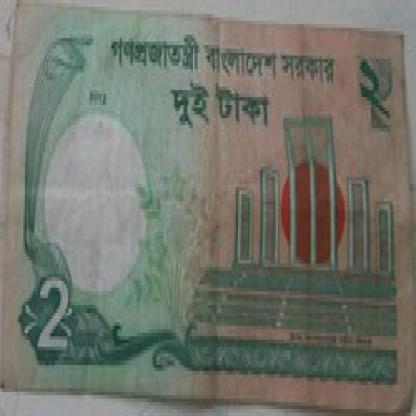two taka: (27, 267, 82, 374), (346, 45, 396, 153)
